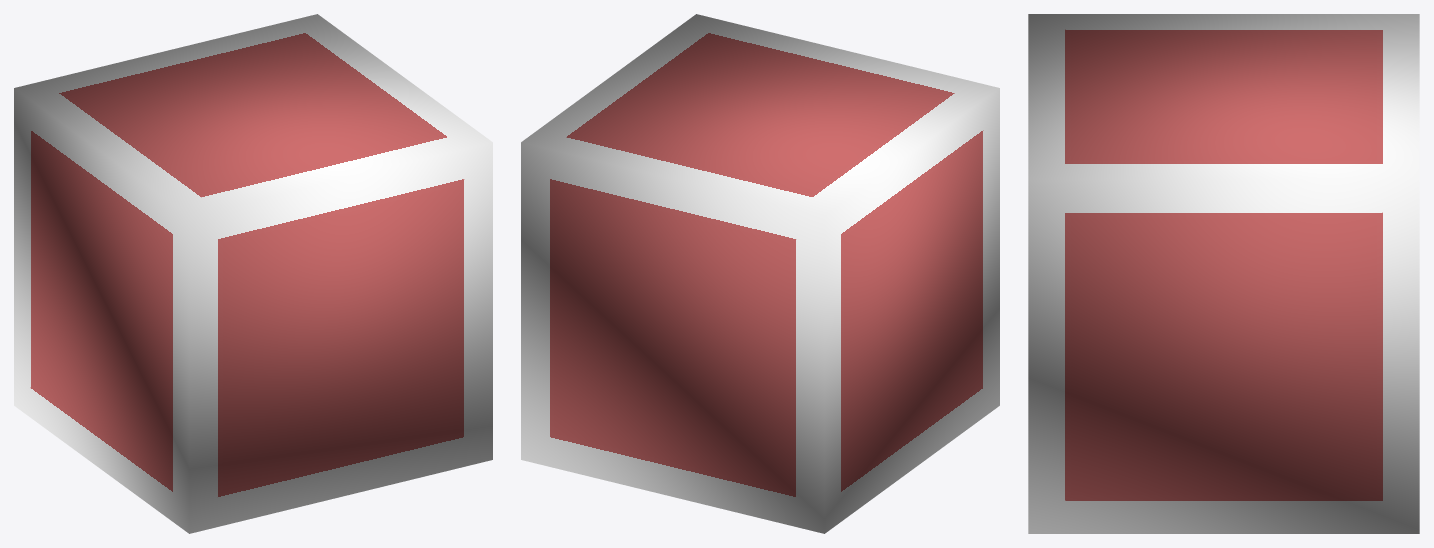
The model's file is puzzle_item_1_combo2.obj.
3 views of the same model, side by side, from view 1: azimuth 30°, elevation 25°; view 2: azimuth 150°, elevation 25°; view 3: azimuth 270°, elevation 25° (orthographic). The views are drawn at different scales.
Visible parts, largest first — view 1: puzzle_item_1; view 2: puzzle_item_1; view 3: puzzle_item_1.
Boxes of the visible parts, x1,y1,x2,y2 form: puzzle_item_1: (14, 14, 492, 533); puzzle_item_1: (521, 14, 999, 533); puzzle_item_1: (1028, 14, 1419, 533).
Bounding box in the file's own units: 80 × 80.59 × 80.
Materials: 4 (3 with a texture image).
